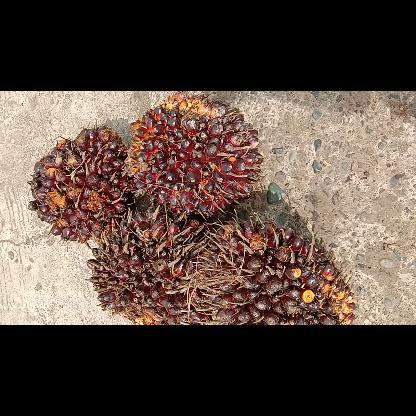Kurang masak: (184, 216, 358, 324), (124, 95, 268, 219), (82, 207, 202, 324), (25, 122, 132, 246)
